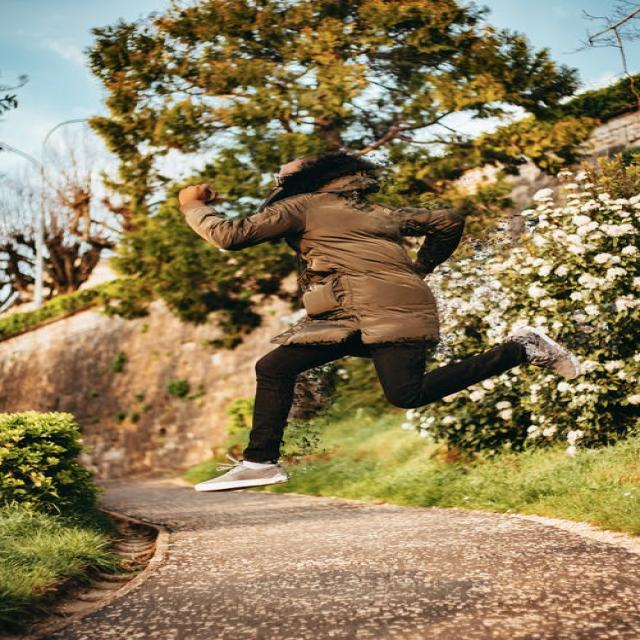running: (177, 152, 600, 496)
